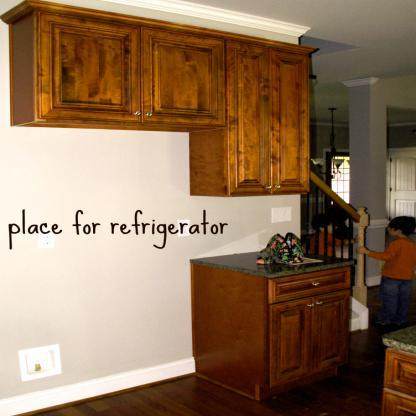door: (388, 150, 416, 232)
hinged: (388, 216, 392, 221), (390, 186, 392, 192), (390, 158, 392, 162)
